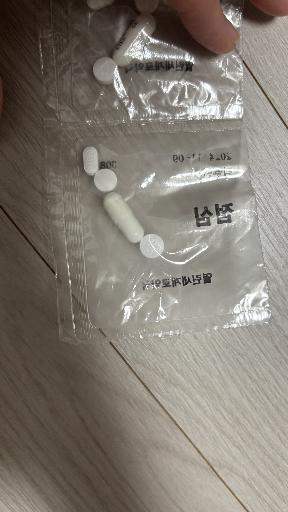Bacilliformis: (112, 12, 156, 67), (103, 192, 144, 243)
Lapabutine: (93, 57, 117, 85), (140, 234, 164, 258)
Tiparone: (94, 169, 117, 193)
gamod: (83, 147, 99, 176)
vinyl: (47, 127, 270, 342), (39, 0, 243, 125)
